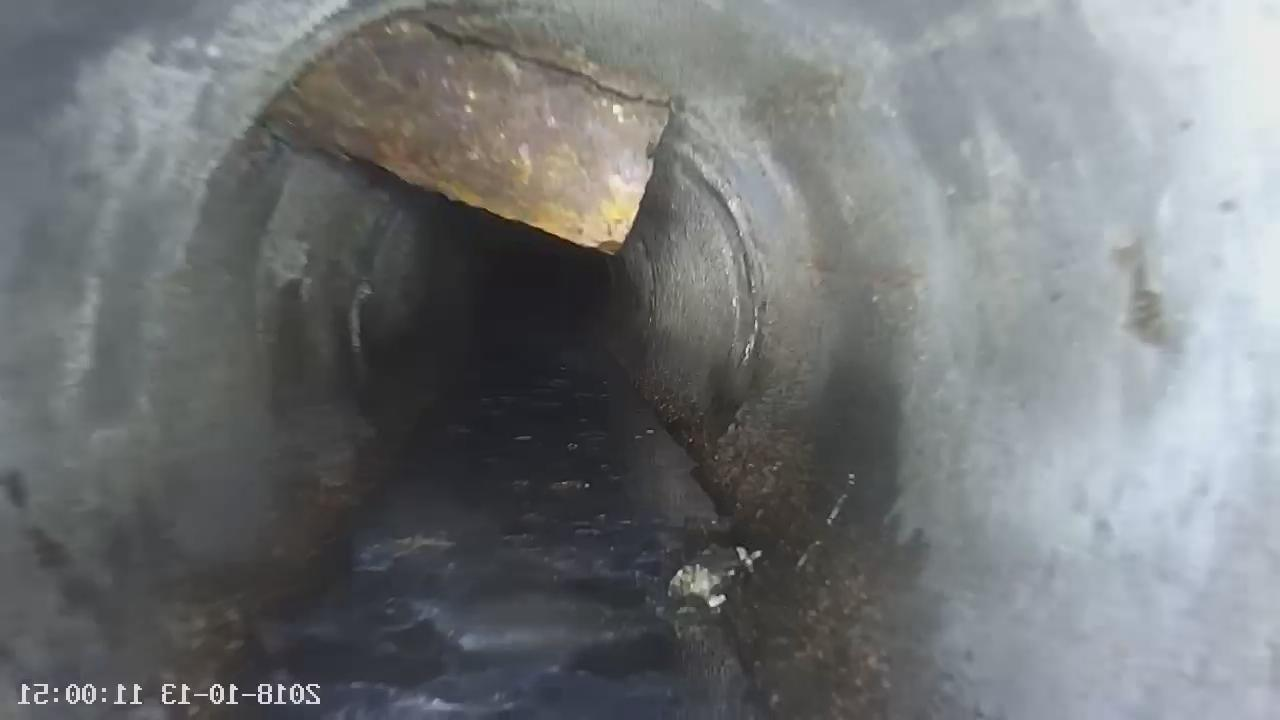YWCR: (269, 9, 669, 253)
